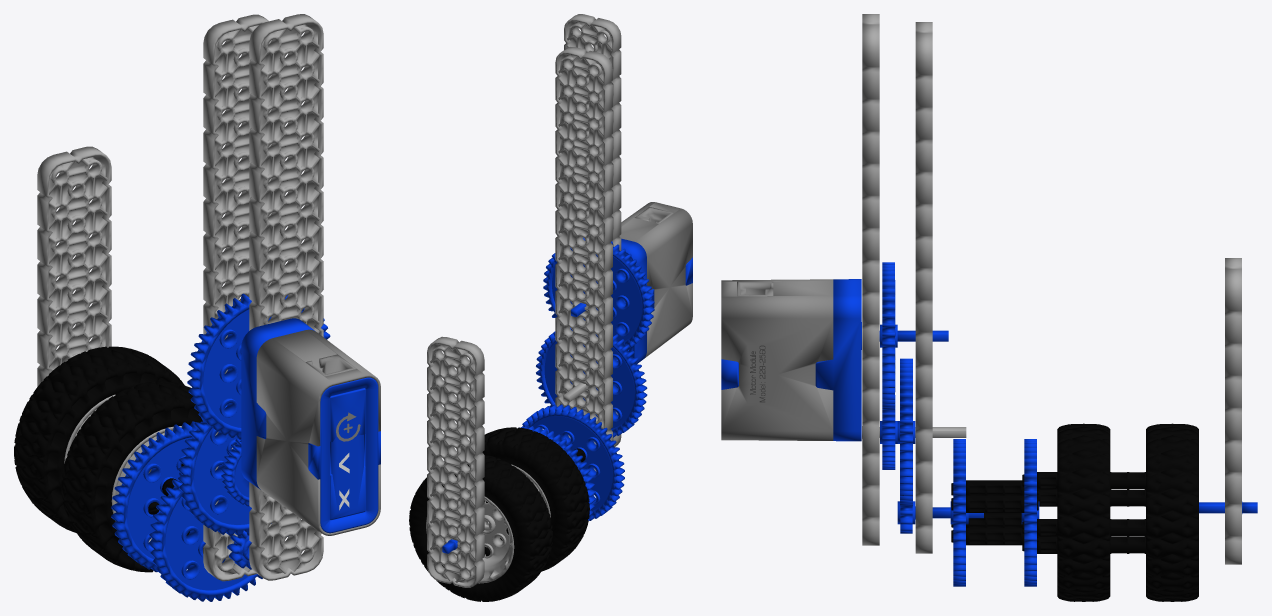
Rendered from Shooter V3.glb.
The picture shows the model from 3 angles, left to right: view 1: azimuth 30°, elevation 25°; view 2: azimuth 150°, elevation 25°; view 3: azimuth 270°, elevation 25°; orthographic projection. The views are drawn at different scales.
Visible parts, largest first — view 1: 00010_228-2500-028.dat, 00030_228-2500-024.dat, 00011_228-2500-028.dat, 00004_228-2560c.dat, 00021_228-2500-209.dat, 00018_228-2500-209.dat, 00006_228-2560d.dat, 00029_228-2500-228.dat, 00025_228-2500-228.dat, 00026_228-2500-228.dat, 00024_228-2500-228.dat, 00005_228-2560a.dat (+4 smaller); view 2: 00011_228-2500-028.dat, 00030_228-2500-024.dat, 00018_228-2500-209.dat, 00021_228-2500-209.dat, 00004_228-2560c.dat, 00026_228-2500-228.dat, 00010_228-2500-028.dat, 00029_228-2500-228.dat, 00024_228-2500-228.dat, 00017_228-2500-208.dat, 00005_228-2560a.dat, 00025_228-2500-228.dat (+1 smaller); view 3: 00004_228-2560c.dat, 00010_228-2500-028.dat, 00011_228-2500-028.dat, 00021_228-2500-209.dat, 00018_228-2500-209.dat, 00005_228-2560a.dat, 00030_228-2500-024.dat, 00029_228-2500-228.dat, 00024_228-2500-228.dat, 00026_228-2500-228.dat, 00025_228-2500-228.dat, 00036_228-2500-066.dat (+4 smaller).
Boxes of the visible parts, bbox=[...] form: 00010_228-2500-028.dat: bbox=[249, 14, 323, 580]; 00030_228-2500-024.dat: bbox=[37, 146, 111, 386]; 00011_228-2500-028.dat: bbox=[203, 14, 271, 581]; 00004_228-2560c.dat: bbox=[256, 329, 380, 535]; 00021_228-2500-209.dat: bbox=[61, 381, 202, 572]; 00018_228-2500-209.dat: bbox=[14, 346, 184, 532]; 00006_228-2560d.dat: bbox=[308, 377, 380, 533]; 00029_228-2500-228.dat: bbox=[187, 293, 330, 439]; 00025_228-2500-228.dat: bbox=[111, 421, 201, 572]; 00026_228-2500-228.dat: bbox=[149, 472, 262, 601]; 00024_228-2500-228.dat: bbox=[178, 404, 271, 536]; 00005_228-2560a.dat: bbox=[241, 318, 315, 489]; 00011_228-2500-028.dat: bbox=[555, 47, 612, 471]; 00030_228-2500-024.dat: bbox=[427, 336, 484, 587]; 00018_228-2500-209.dat: bbox=[409, 455, 552, 601]; 00021_228-2500-209.dat: bbox=[482, 427, 589, 571]; 00004_228-2560c.dat: bbox=[619, 202, 692, 358]; 00026_228-2500-228.dat: bbox=[521, 404, 624, 520]; 00010_228-2500-028.dat: bbox=[564, 14, 621, 447]; 00029_228-2500-228.dat: bbox=[543, 237, 654, 347]; 00024_228-2500-228.dat: bbox=[536, 328, 647, 437]; 00017_228-2500-208.dat: bbox=[426, 491, 514, 583]; 00005_228-2560a.dat: bbox=[621, 238, 654, 364]; 00025_228-2500-228.dat: bbox=[519, 426, 595, 520]; 00004_228-2560c.dat: bbox=[721, 279, 833, 440]; 00010_228-2500-028.dat: bbox=[862, 14, 879, 545]; 00011_228-2500-028.dat: bbox=[915, 22, 932, 553]; 00021_228-2500-209.dat: bbox=[1057, 423, 1110, 601]; 00018_228-2500-209.dat: bbox=[1146, 423, 1198, 601]; 00005_228-2560a.dat: bbox=[815, 279, 861, 441]; 00030_228-2500-024.dat: bbox=[1225, 258, 1241, 564]; 00029_228-2500-228.dat: bbox=[880, 262, 897, 409]; 00024_228-2500-228.dat: bbox=[897, 358, 915, 506]; 00026_228-2500-228.dat: bbox=[950, 439, 968, 586]; 00025_228-2500-228.dat: bbox=[1021, 439, 1039, 586]; 00036_228-2500-066.dat: bbox=[951, 527, 1038, 545].
Size of the model in its own units: 0.1625 by 0.5835 by 0.4907.
